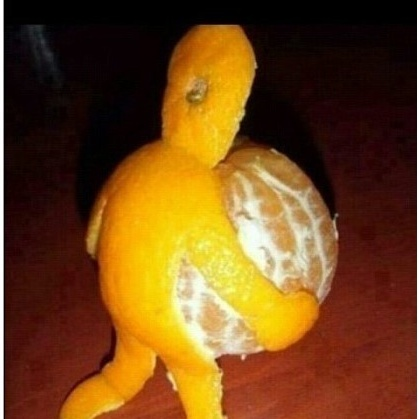mandarin: (123, 139, 339, 353)
